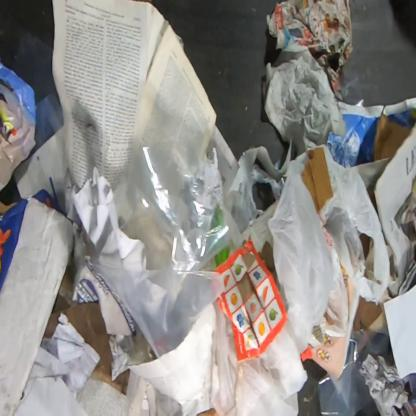cardboard: (0, 196, 82, 416), (44, 256, 130, 393), (374, 123, 415, 295), (76, 369, 186, 415), (374, 112, 412, 162), (353, 298, 386, 334)
soft_plastic: (201, 140, 391, 415), (75, 118, 254, 359), (319, 326, 391, 415)
